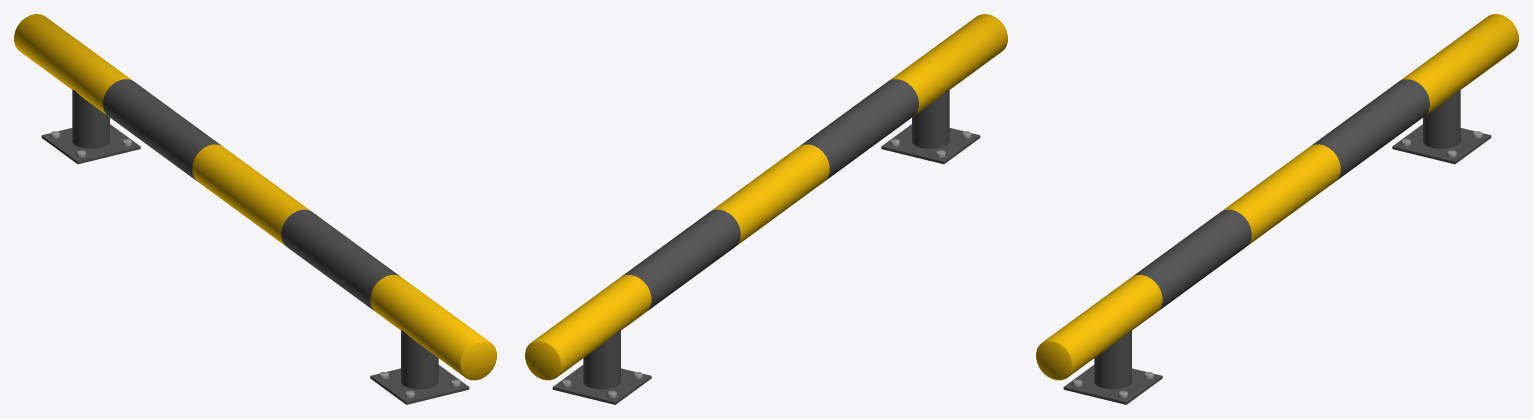
The model's file is Support_Vehicle_Stopper.fbx.
3 renders of one model, left to right at view 1: azimuth 30°, elevation 25°; view 2: azimuth 150°, elevation 25°; view 3: azimuth 330°, elevation 25°, orthographic.
Visible parts, largest first — view 1: Support_Vehicle_Stopper; view 2: Support_Vehicle_Stopper; view 3: Support_Vehicle_Stopper.
Part boxes in pixels (x1,y1,x2,y2): Support_Vehicle_Stopper: (14,14,496,404); Support_Vehicle_Stopper: (525,14,1007,404); Support_Vehicle_Stopper: (1036,14,1518,404).
Bounding box in the file's own units: 0.13 × 0.17 × 1.6.
